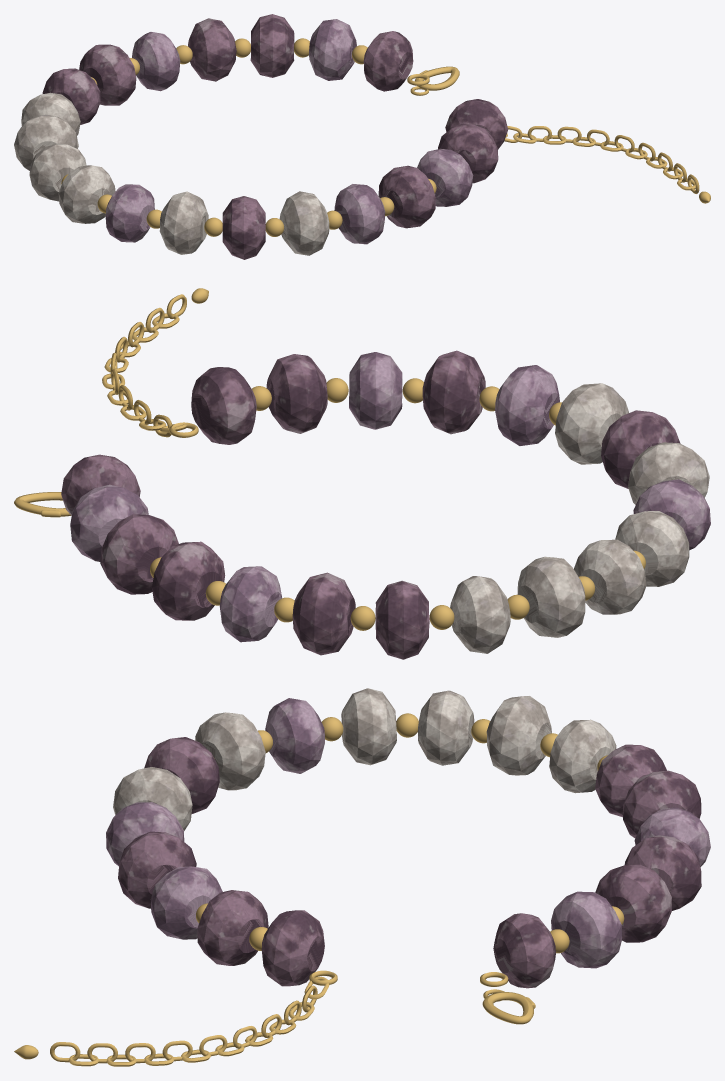
The model's file is standard.glb.
3 renders of one model, top to bottom at view 1: azimuth 30°, elevation 25°; view 2: azimuth 150°, elevation 25°; view 3: azimuth 270°, elevation 25°, orthographic. The views are drawn at different scales.
Visible parts, largest first — view 1: facet_rondel_1.003, facet_rondel_4.002, facet_rondel_0.001, facet_rondel_0.002, facet_rondel_2.002, facet_rondel_0.003, facet_rondel_0, facet_rondel_3, facet_rondel_2, facet_rondel_1, facet_rondel_3.002, facet_rondel_1.002 (+9 smaller); view 2: facet_rondel_3.001, facet_rondel_3, facet_rondel_2, facet_rondel_1.003, facet_rondel_4.003, facet_rondel_0.001, facet_rondel_4.002, facet_rondel_0.003, facet_rondel_4.001, facet_rondel_3.003, facet_rondel_0.002, facet_rondel_4 (+9 smaller); view 3: facet_rondel_1, facet_rondel_2, facet_rondel_3.001, facet_rondel_3.003, facet_rondel_4.003, facet_rondel_2.002, facet_rondel_0, facet_rondel_2.003, facet_rondel_1.003, facet_rondel_2.001, facet_rondel_1.002, facet_rondel_0.002 (+9 smaller).
Part boxes in pixels (x1,y1,x2,y2): facet_rondel_1.003: (378,165,435,228); facet_rondel_4.002: (279,191,329,255); facet_rondel_0.001: (79,44,136,105); facet_rondel_0.002: (58,165,115,223); facet_rondel_2.002: (159,191,208,254); facet_rondel_0.003: (334,184,385,244); facet_rondel_0: (363,31,413,91); facet_rondel_3: (188,18,236,81); facet_rondel_2: (250,14,294,77); facet_rondel_1: (309,19,356,80); facet_rondel_3.002: (222,196,265,259); facet_rondel_1.002: (105,184,154,242); facet_rondel_3.001: (517,556,585,637); facet_rondel_3: (152,541,225,620); facet_rondel_2: (100,514,178,594); facet_rondel_1.003: (422,350,485,434); facet_rondel_4.003: (191,367,256,444); facet_rondel_0.001: (292,572,355,655); facet_rondel_4.002: (555,383,628,464); facet_rondel_0.003: (495,365,559,445); facet_rondel_4.001: (574,539,646,614); facet_rondel_3.003: (266,354,327,433); facet_rondel_0.002: (615,511,689,586); facet_rondel_4: (219,566,281,642); facet_rondel_1: (551,891,621,968); facet_rondel_2: (595,864,671,942); facet_rondel_3.001: (486,696,551,775); facet_rondel_3.003: (197,890,268,965); facet_rondel_4.003: (261,910,324,986); facet_rondel_2.002: (195,712,265,790); facet_rondel_0: (493,913,555,988); facet_rondel_2.003: (150,866,222,939); facet_rondel_1.003: (118,831,196,908); facet_rondel_2.001: (549,719,616,793); facet_rondel_1.002: (265,698,324,773); facet_rondel_0.002: (341,688,396,765).
Size of the model in its own units: 7.86 by 0.86 by 7.19.
Materials: 4 (3 with a texture image).
